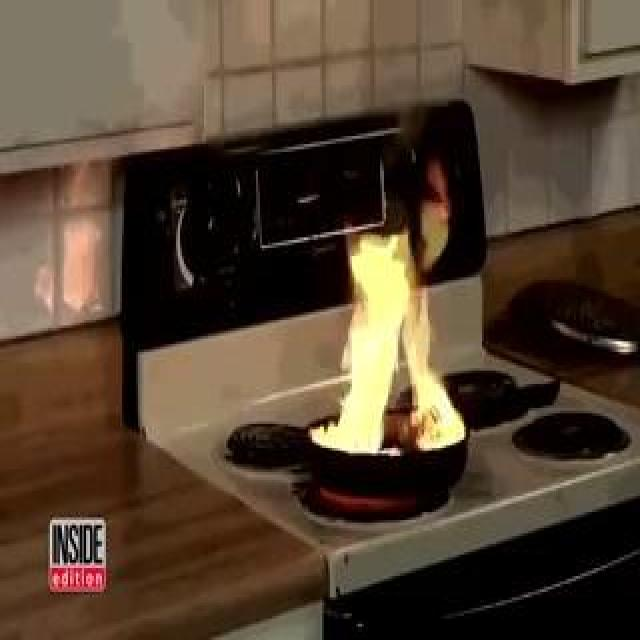Fire: (305, 77, 471, 456)
